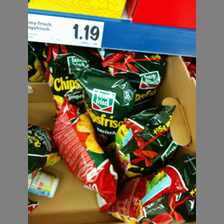chips: (51, 95, 118, 209), (69, 59, 156, 144), (114, 104, 178, 176)
